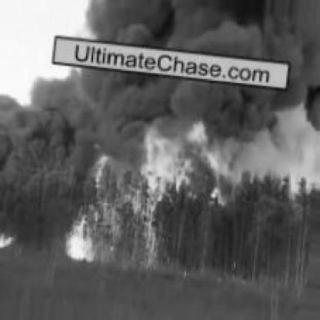Smoke: (34, 5, 306, 133)
